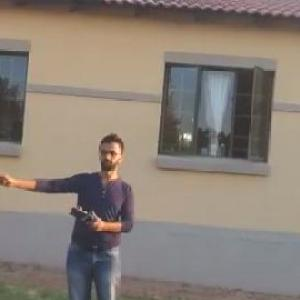follow: (0, 120, 141, 299)
